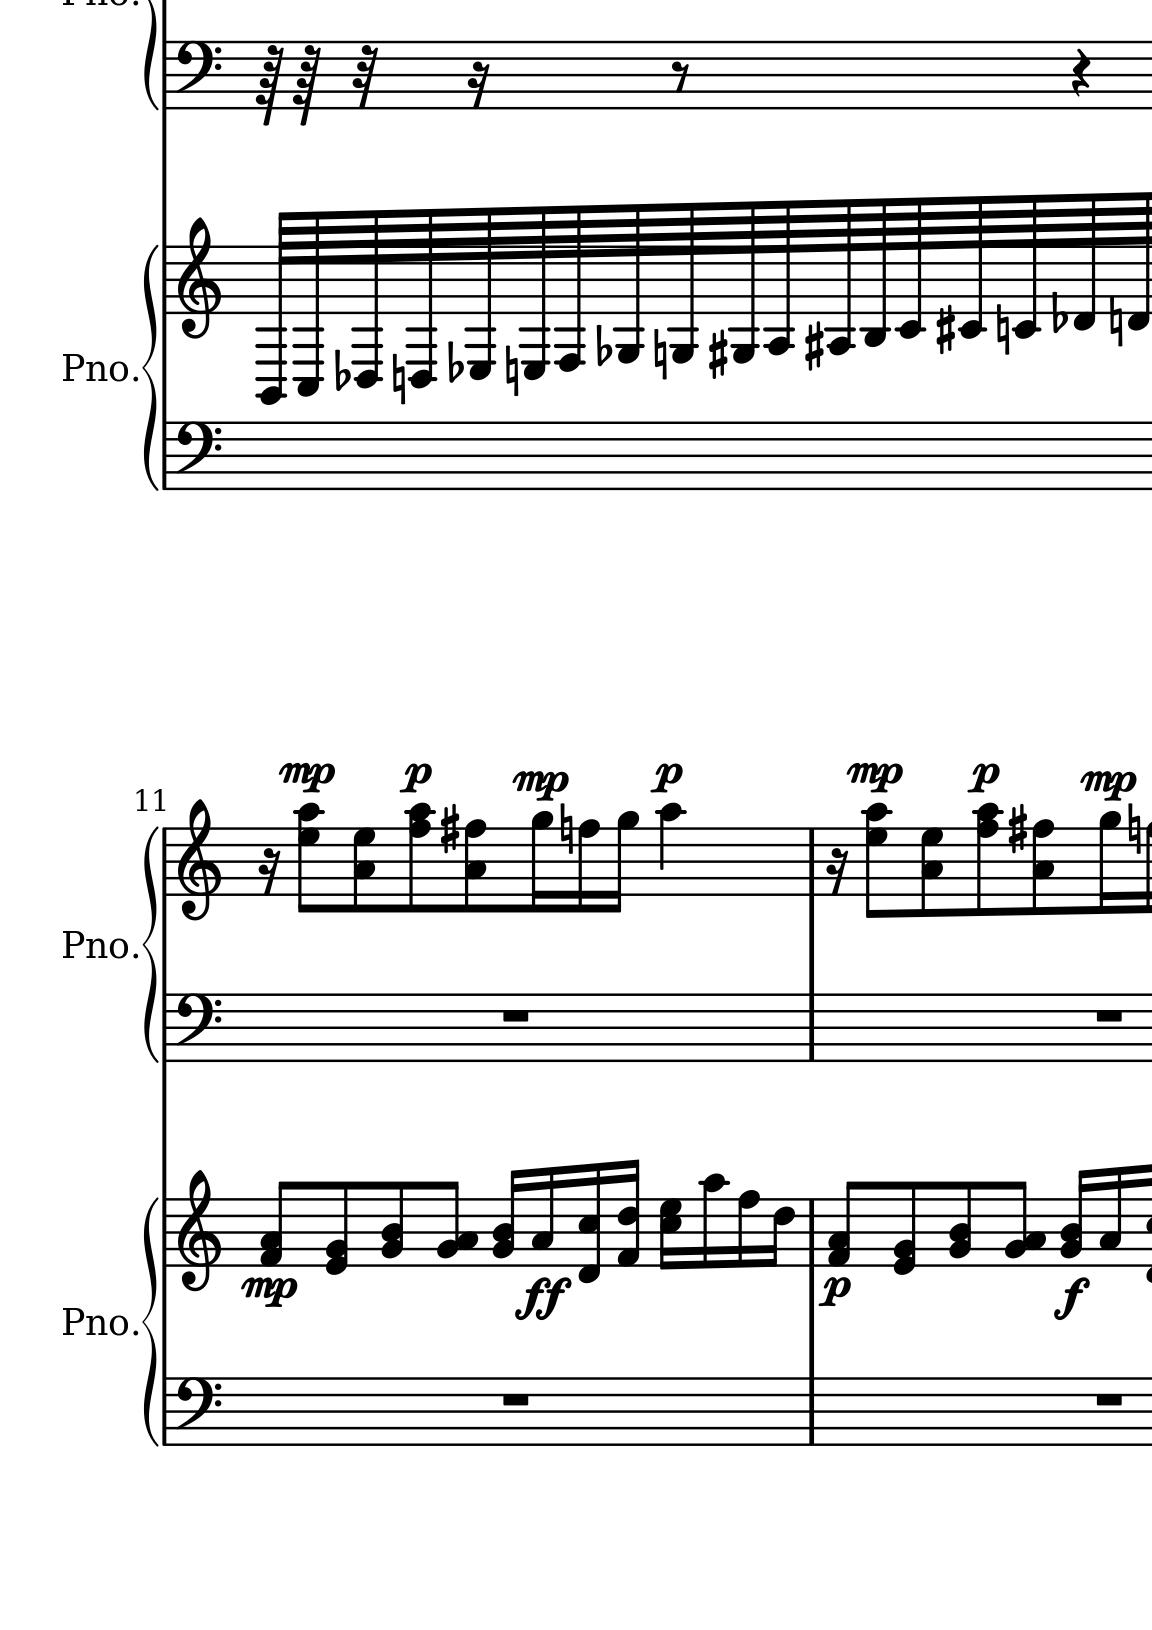16_-1_5: (576, 1161, 603, 1285)
16_10: (701, 1173, 726, 1271)
16_1_6: (618, 1159, 643, 1269)
16_2_4: (491, 1170, 524, 1269), (1060, 1168, 1088, 1267)
16_3: (530, 1166, 555, 1269), (1098, 1166, 1123, 1269)
16_5_7: (658, 1196, 684, 1271)
16_6: (768, 1206, 798, 1269)
16_8: (577, 817, 600, 916), (737, 1189, 759, 1270)
16_9: (606, 810, 640, 915), (530, 810, 555, 913), (1098, 811, 1122, 916)
4_10: (660, 803, 684, 898)
64_-1: (1071, 192, 1097, 333), (1126, 191, 1152, 331)
64_-10: (257, 211, 290, 404)
64_-2: (1011, 196, 1041, 338), (958, 193, 986, 340), (896, 194, 923, 340)
64_-3: (863, 194, 889, 349)
64_-4: (828, 198, 854, 356), (768, 198, 792, 356)
64_-5: (616, 202, 642, 365), (732, 199, 757, 366), (672, 201, 696, 364)
64_-6: (557, 206, 583, 374)
64_-7: (468, 206, 494, 381), (522, 204, 547, 381)
64_-8: (353, 209, 380, 390), (408, 207, 434, 390)
64_-9: (297, 211, 322, 398)
8_0_2: (325, 1180, 352, 1277), (893, 1179, 918, 1276)
8_1_3: (259, 1179, 295, 1269), (828, 1180, 859, 1266)
8_2_3: (438, 1180, 480, 1269), (1006, 1181, 1046, 1269)
8_2_4: (380, 1181, 406, 1269), (949, 1179, 972, 1269)
8_3_7: (920, 826, 948, 918), (352, 826, 377, 913)
8_3_8: (464, 817, 487, 913), (1032, 817, 1055, 918)
8_7_10: (293, 803, 325, 913), (863, 803, 893, 918)
8_8_10: (404, 803, 438, 913)
Brace: (138, 1198, 157, 1451), (141, 244, 160, 493), (141, 827, 160, 1065)
Fclef: (173, 417, 233, 487), (170, 989, 223, 1064), (168, 1376, 223, 1447), (173, 37, 218, 110)
Flat: (593, 323, 613, 369), (445, 341, 464, 386), (333, 349, 350, 394), (1051, 290, 1067, 335)
Gclef: (175, 216, 233, 351), (176, 799, 223, 922), (178, 1169, 221, 1290)
Natural: (1107, 295, 1126, 350), (651, 328, 668, 381), (502, 345, 520, 398), (995, 302, 1011, 358), (1127, 803, 1143, 857), (391, 354, 406, 406), (559, 801, 574, 854)
Pno: (64, 928, 127, 963), (64, 353, 127, 384), (64, 1306, 127, 1337)
Rests1: (1093, 1388, 1130, 1408), (1093, 1004, 1127, 1026), (499, 1004, 532, 1024), (501, 1389, 534, 1409)
Rests128: (254, 45, 287, 127), (293, 45, 322, 128)
Rests16: (827, 847, 852, 898), (466, 60, 490, 112), (258, 847, 281, 896)
Rests32: (352, 45, 378, 110)
Rests4: (1071, 49, 1093, 98)
Rests8: (670, 60, 689, 93)
Sharp: (1007, 803, 1031, 857), (802, 322, 827, 373), (439, 803, 461, 856), (709, 329, 728, 381), (938, 305, 955, 356)
Single_barline: (799, 827, 825, 896), (800, 1198, 825, 1267), (800, 994, 827, 1060), (802, 1378, 824, 1446), (156, 422, 177, 492), (157, 41, 177, 111), (155, 1198, 175, 1267), (157, 1378, 176, 1446), (157, 245, 175, 314), (158, 829, 176, 897), (160, 994, 175, 1062)
f: (1054, 1277, 1092, 1321)
ff: (512, 1276, 572, 1322)
mp: (847, 756, 909, 795), (281, 756, 337, 795), (241, 1275, 300, 1311), (1080, 766, 1137, 804), (514, 766, 569, 803)
p: (650, 760, 684, 798), (817, 1276, 857, 1307), (964, 761, 1001, 793), (401, 761, 434, 795)
